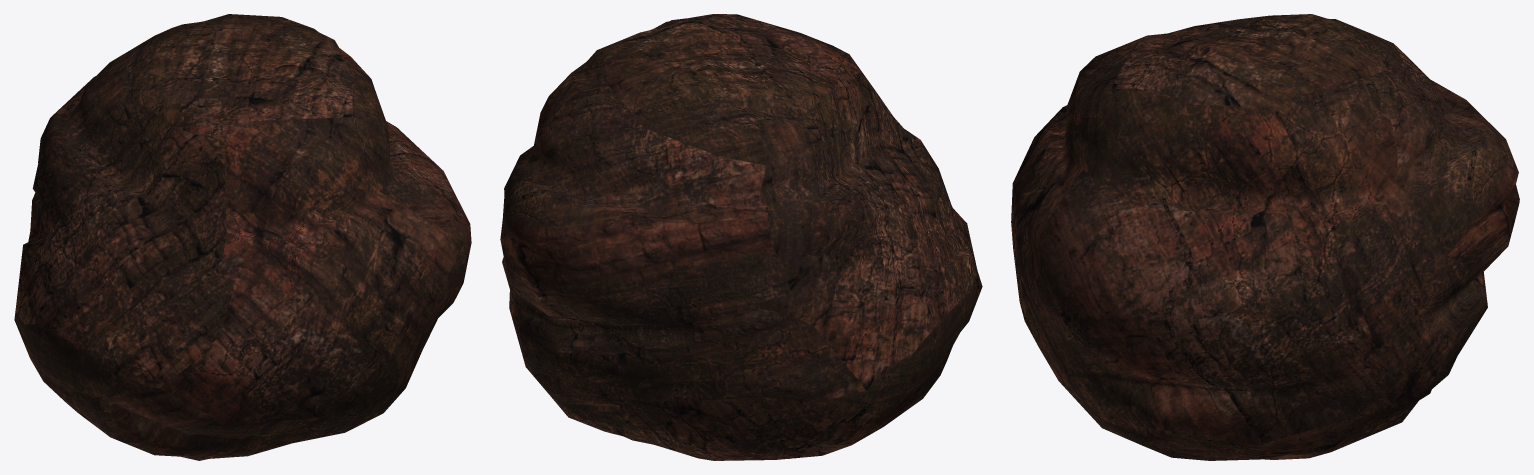
Rendered from rock_red_small08_projected.dae.
3 renders of one model, left to right at view 1: azimuth 30°, elevation 25°; view 2: azimuth 150°, elevation 25°; view 3: azimuth 270°, elevation 25°, orthographic. The views are drawn at different scales.
Visible parts, largest first — view 1: Mesh; view 2: Mesh; view 3: Mesh.
Part boxes in pixels (x1,y1,x2,y2): Mesh: (14,14,471,460); Mesh: (500,14,982,460); Mesh: (1011,14,1519,460).
Size of the model in its own units: 1.18 by 1.06 by 1.23.
